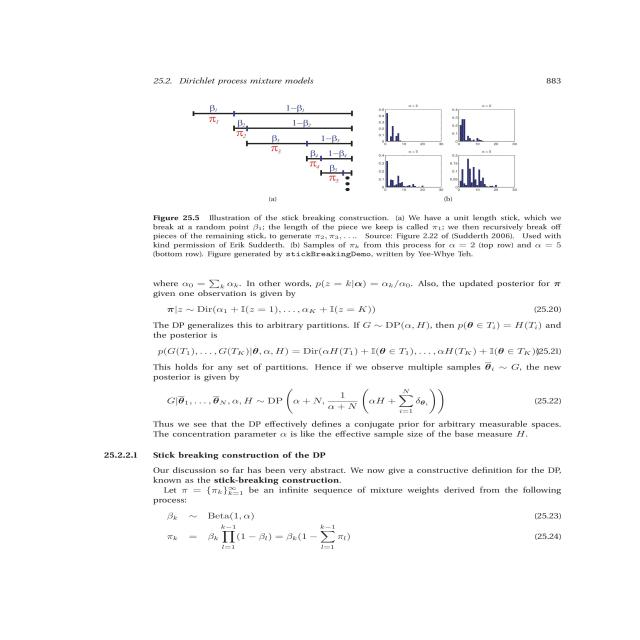diagram: (120, 95, 635, 264)
